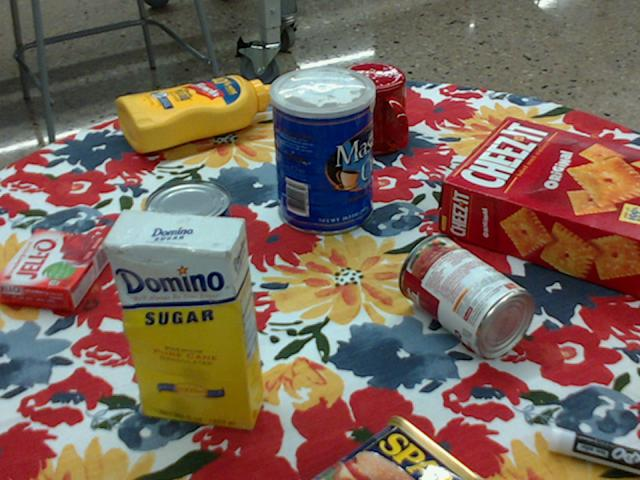cracker_box: (439, 116, 639, 299)
gelatin_box: (0, 231, 111, 314)
large_marker: (550, 425, 639, 473)
master_chef_can: (270, 66, 376, 236)
mug: (332, 63, 409, 156)
mustard_bottle: (114, 75, 277, 152)
potted_meat_can: (312, 415, 485, 479)
sugar_box: (99, 207, 265, 431)
tomato_soup_can: (399, 235, 537, 358)
tuna_fish_can: (143, 180, 230, 251)
